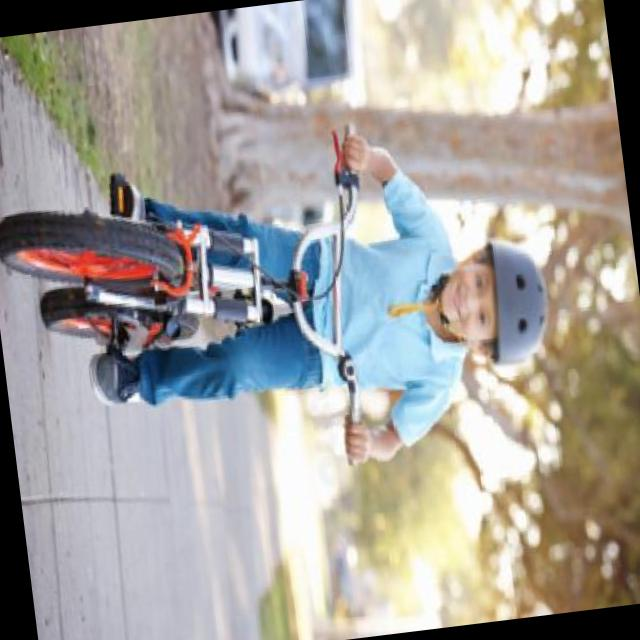With Helmet: (448, 220, 554, 378)
